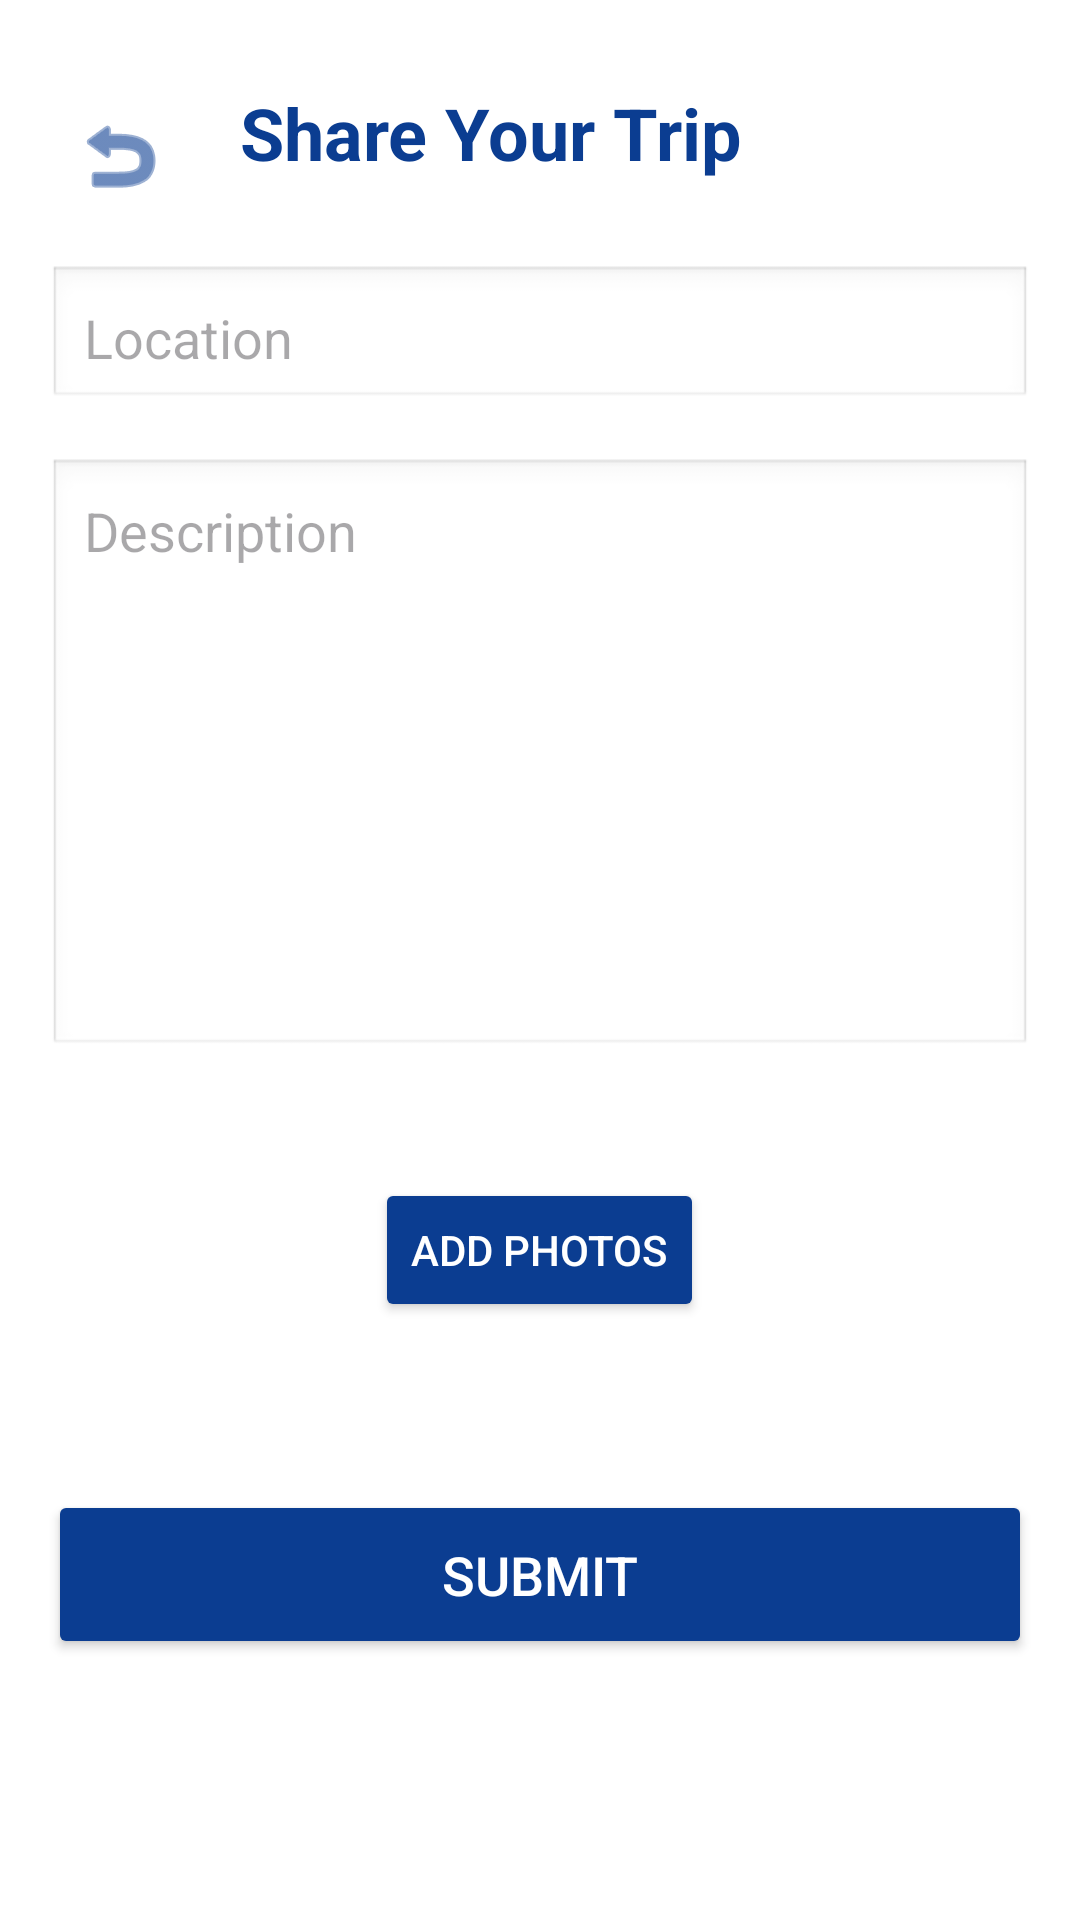

Screen size 1080w x 1920h. Icon name, then its box in pixels as (x1, y1, x2, y2):
Back: (87, 125, 156, 188)
